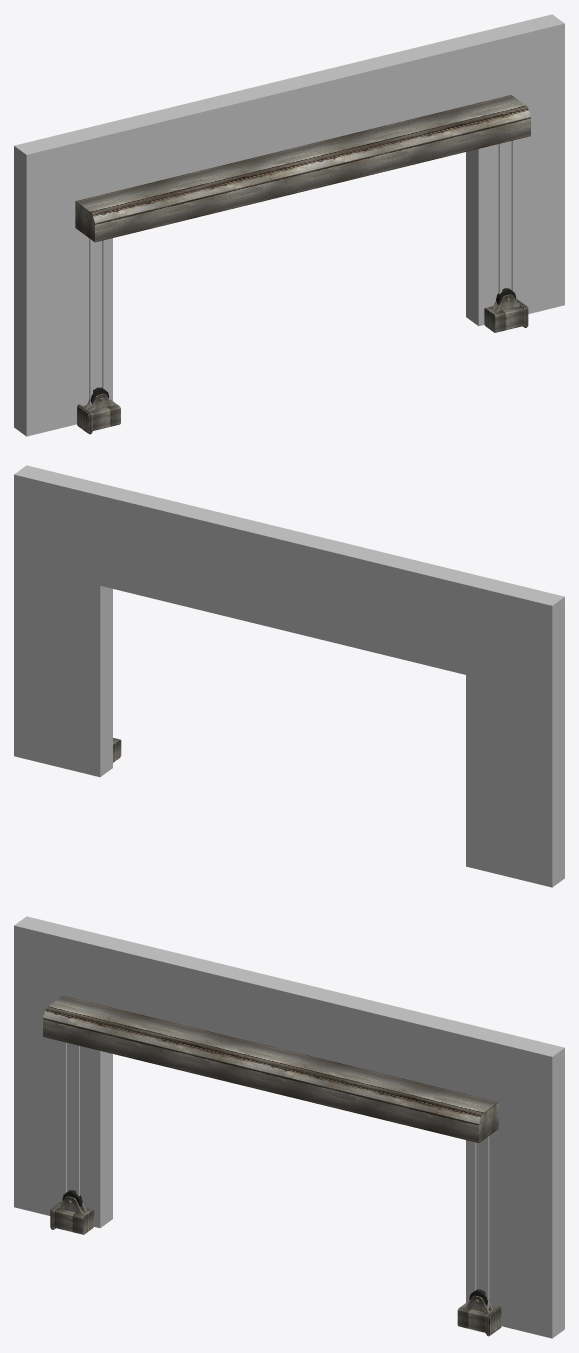
The model's file is SM_Wall_Concrete_03.FBX.
3 renders of one model, top to bottom at view 1: azimuth 30°, elevation 25°; view 2: azimuth 150°, elevation 25°; view 3: azimuth 330°, elevation 25°, orthographic.
Parts seen in each view (by area): view 1: SM_Wall_Concrete_03; view 2: SM_Wall_Concrete_03; view 3: SM_Wall_Concrete_03.
Part boxes in pixels (bbox=[...]): SM_Wall_Concrete_03: bbox=[14, 14, 564, 436]; SM_Wall_Concrete_03: bbox=[14, 465, 564, 887]; SM_Wall_Concrete_03: bbox=[14, 916, 564, 1338].
Size of the model in its own units: 10 by 5.02 by 1.04.
